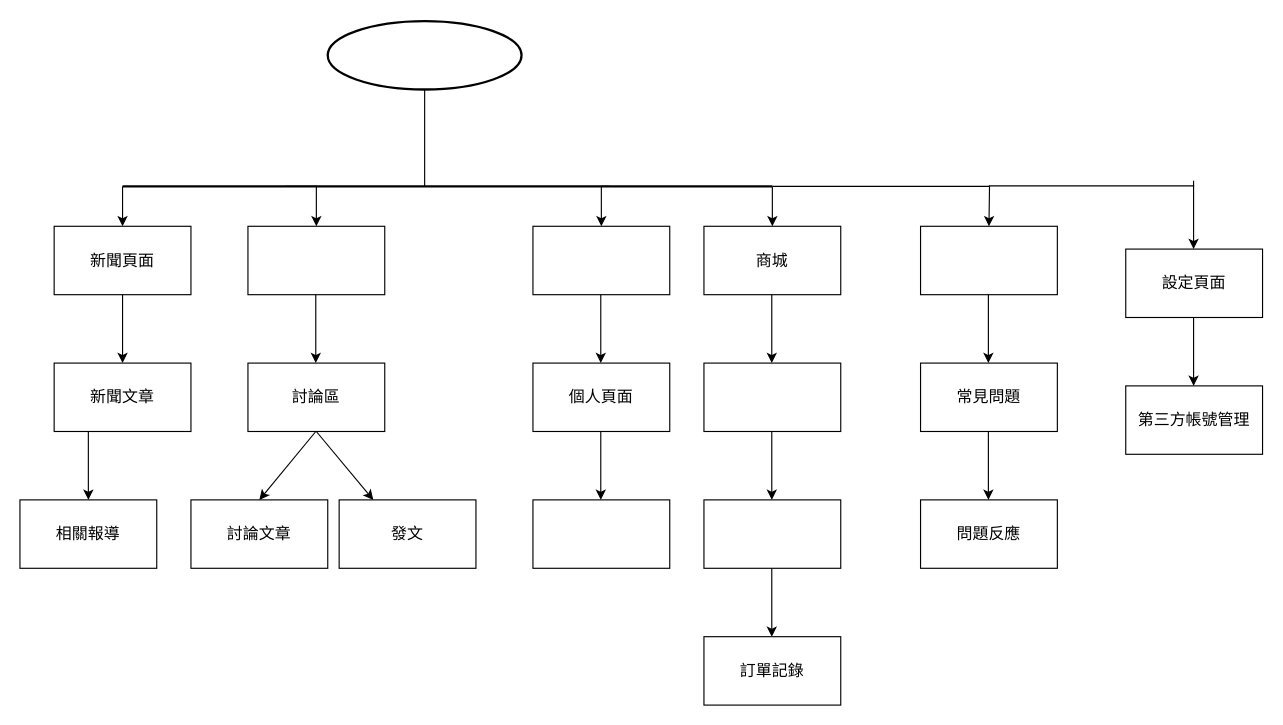
Some shapes in this 1283 by 725 pixel diagram are drawn without their labels. The box of each missing label's shape, as (x1, y1, x2, y2) in pixels:
個人日誌/文章: (532, 499, 670, 568)
商品頁面: (703, 362, 841, 431)
客服中心: (919, 225, 1057, 295)
會員登入/註冊: (532, 225, 670, 295)
看板頁面: (247, 225, 385, 295)
結帳畫面: (703, 499, 841, 568)
首頁: (326, 19, 522, 90)
